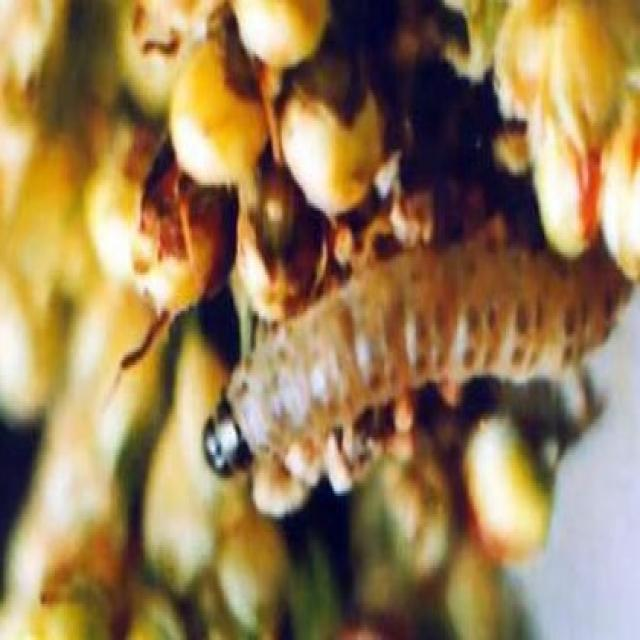peach borer: (192, 240, 630, 482)
